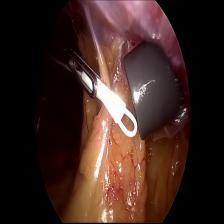Grasper: (67, 50, 98, 101)
